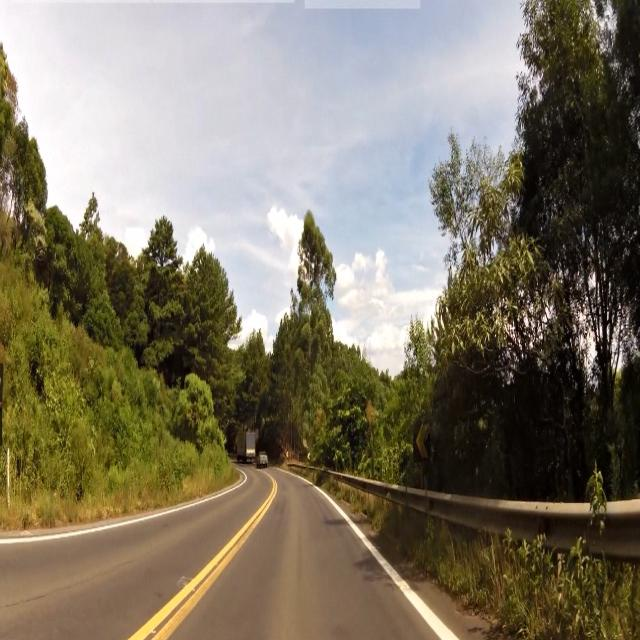Del: (412, 422, 430, 461)
